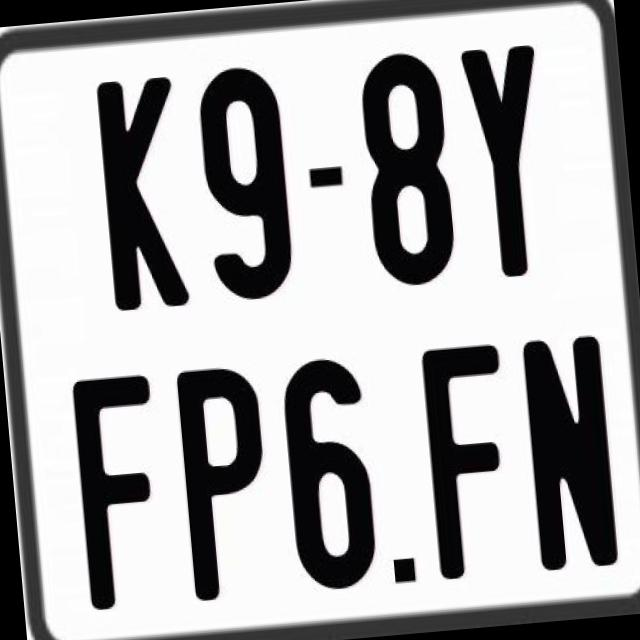6: (278, 356, 381, 596)
8: (356, 48, 458, 296)
9: (191, 63, 298, 304)
F: (70, 368, 172, 606), (416, 340, 514, 584)
K: (96, 75, 197, 318)
N: (517, 334, 615, 574)
P: (174, 360, 276, 602)
Y: (460, 42, 560, 278)
